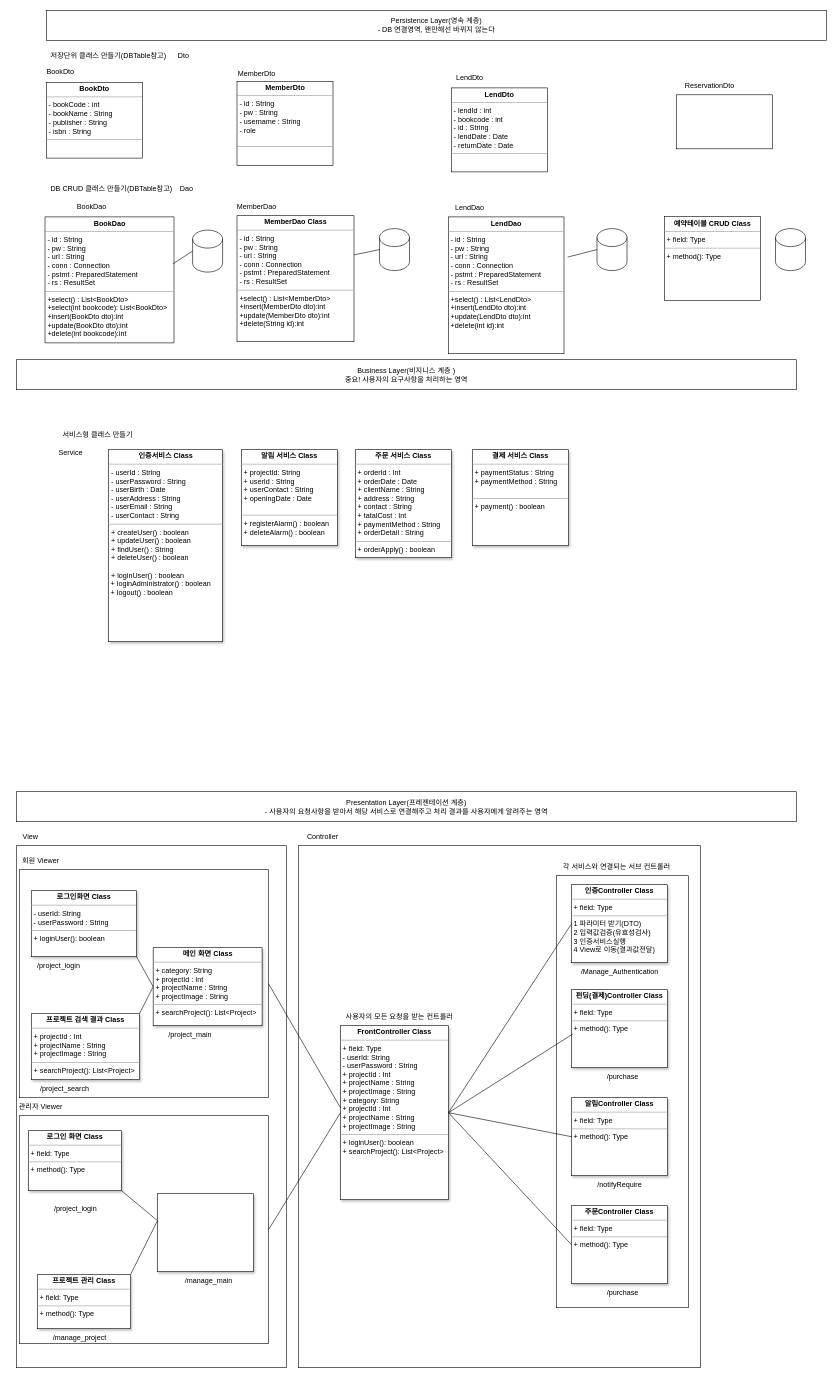
The diagram is 837 pixels wide and 1378 high, and some of its shapes have lost their labels. The centre of each missing label's shape, as x and y in pixels:
"대여 테이블" belongs at pixel 611 249.
"도서 테이블" belongs at pixel 207 251.
"메인 화면 Class + field: Type + method(): Type" belongs at pixel 205 1233.
"예약 테이블" belongs at pixel 790 249.
"예약정보저장 Class + field: Type + method(): Type" belongs at pixel 724 121.
"회원 테이블" belongs at pixel 394 249.
